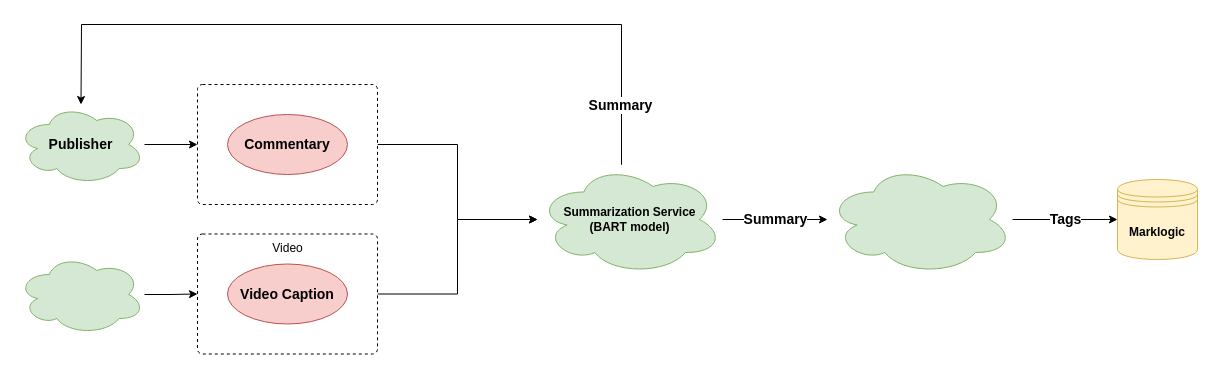
Image size: 1215x380. Some labels were removed from this diagram. Here are the shapes that lost their labels. From the top down, the box of each, then its label:
(196, 84, 378, 204): Documents
(826, 164, 1012, 274): NER Service (DeBERTa model)
(16, 254, 144, 334): Kaltura
